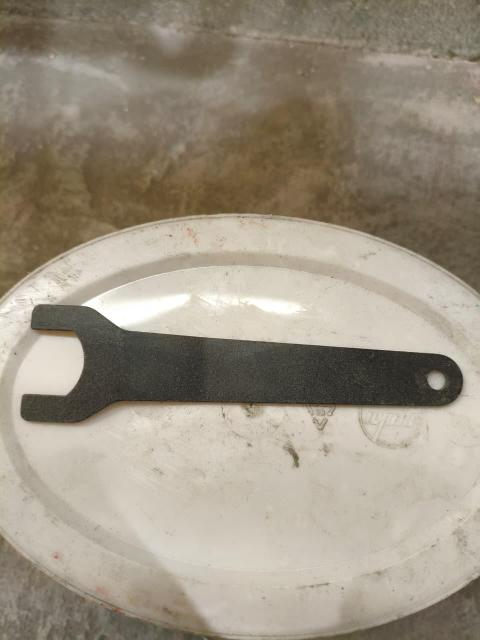Metal: (15, 300, 465, 427)
